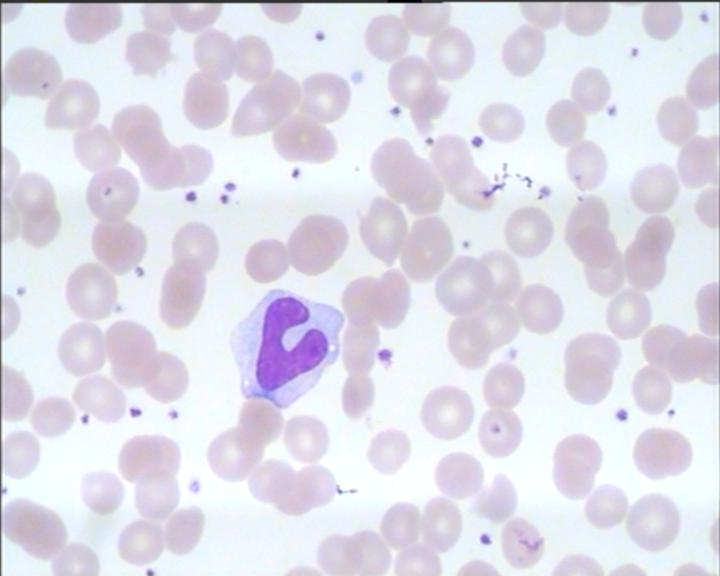mono: (225, 281, 348, 411)
